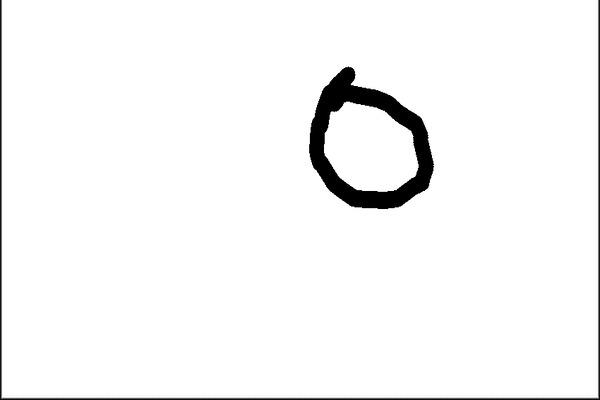O: (293, 57, 441, 217)
